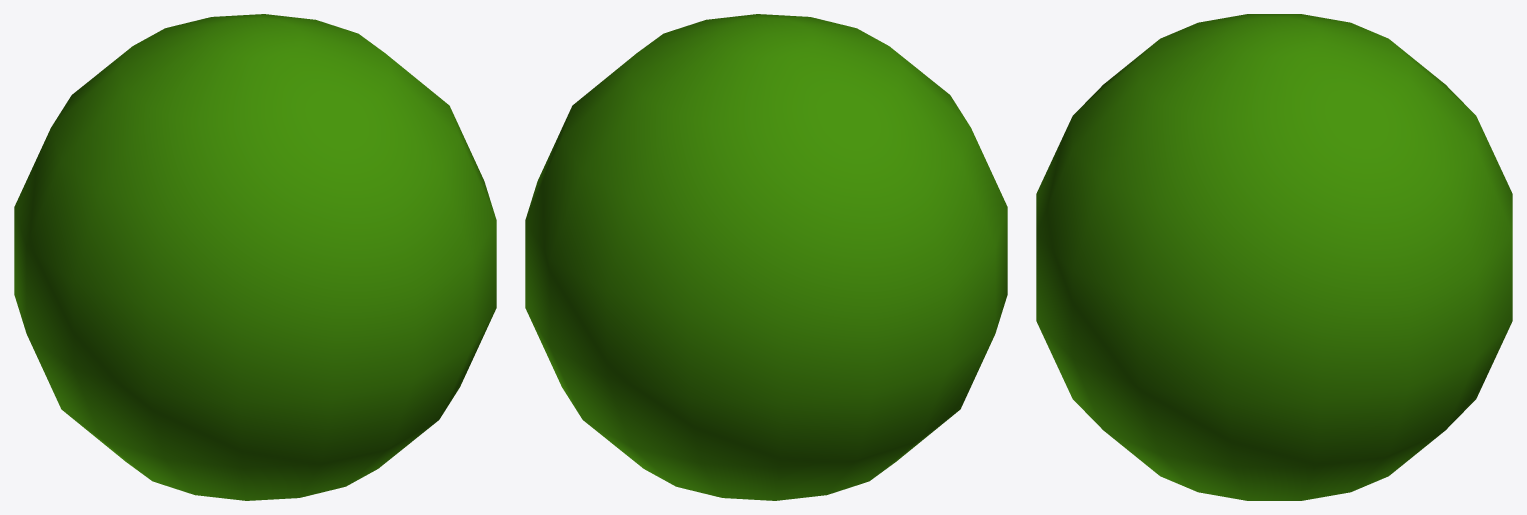
The picture shows the model from 3 angles, left to right: view 1: azimuth 30°, elevation 25°; view 2: azimuth 150°, elevation 25°; view 3: azimuth 270°, elevation 25°; orthographic projection.
Parts seen in each view (by area): view 1: BG; view 2: BG; view 3: BG.
Boxes of the visible parts, x1,y1,x2,y2 form: BG: (14,14,496,500); BG: (525,14,1007,500); BG: (1036,14,1512,500).
Size of the model in its own units: 0.9619 by 1 by 0.9619.
